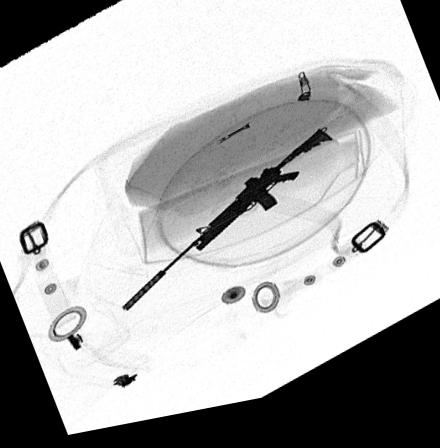Gun: (121, 138, 331, 315)
